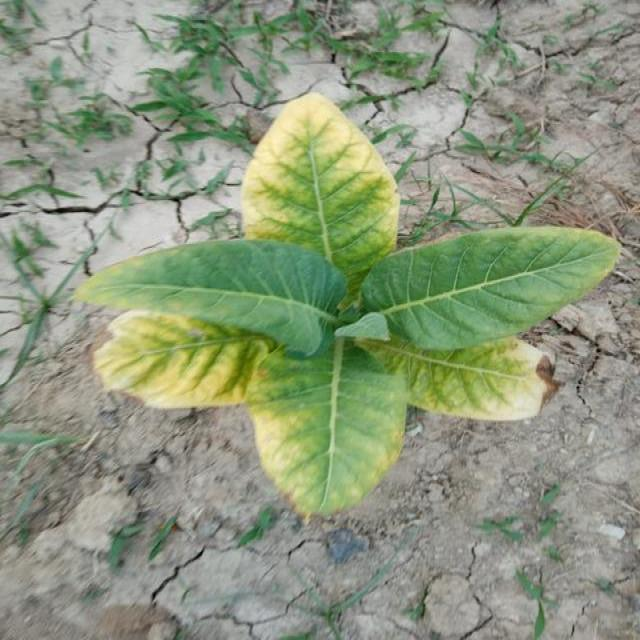crop: (83, 102, 622, 514)
